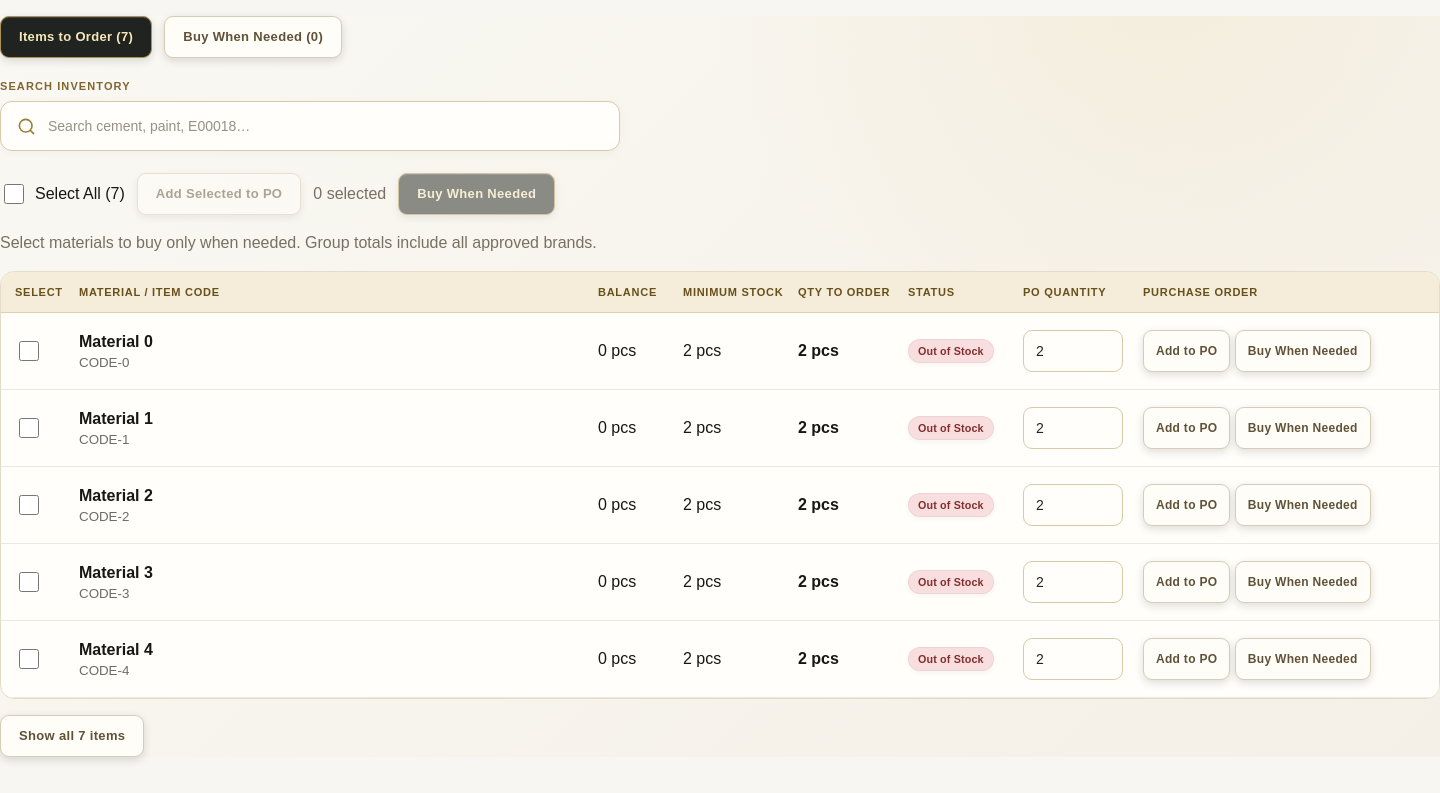
Test: hides a row in place while preserving Show All and search
In the search field: (326, 126) [48,102,603,150], type "Material"
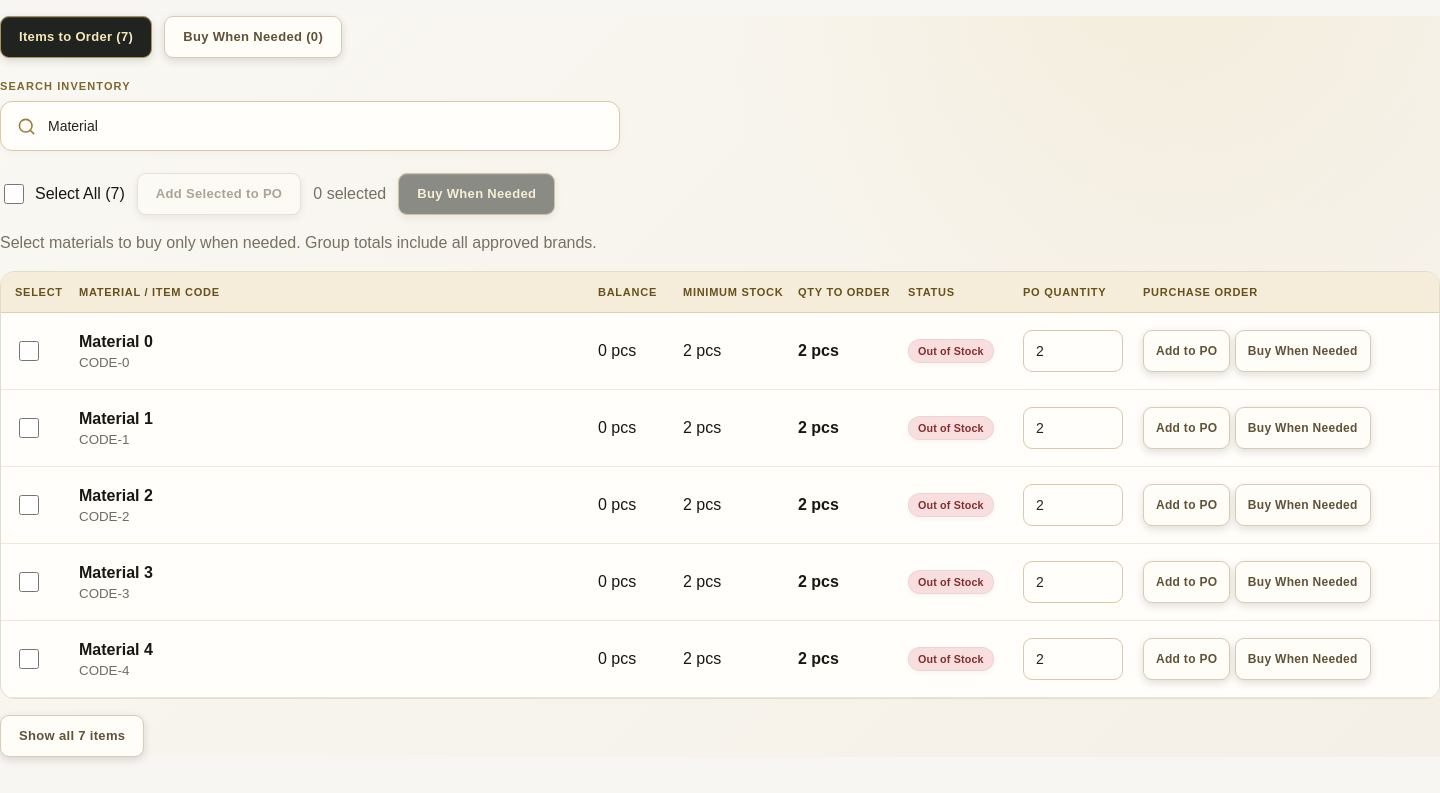
Click the button "Show all 7 items": (72, 736) [0,715,144,757]
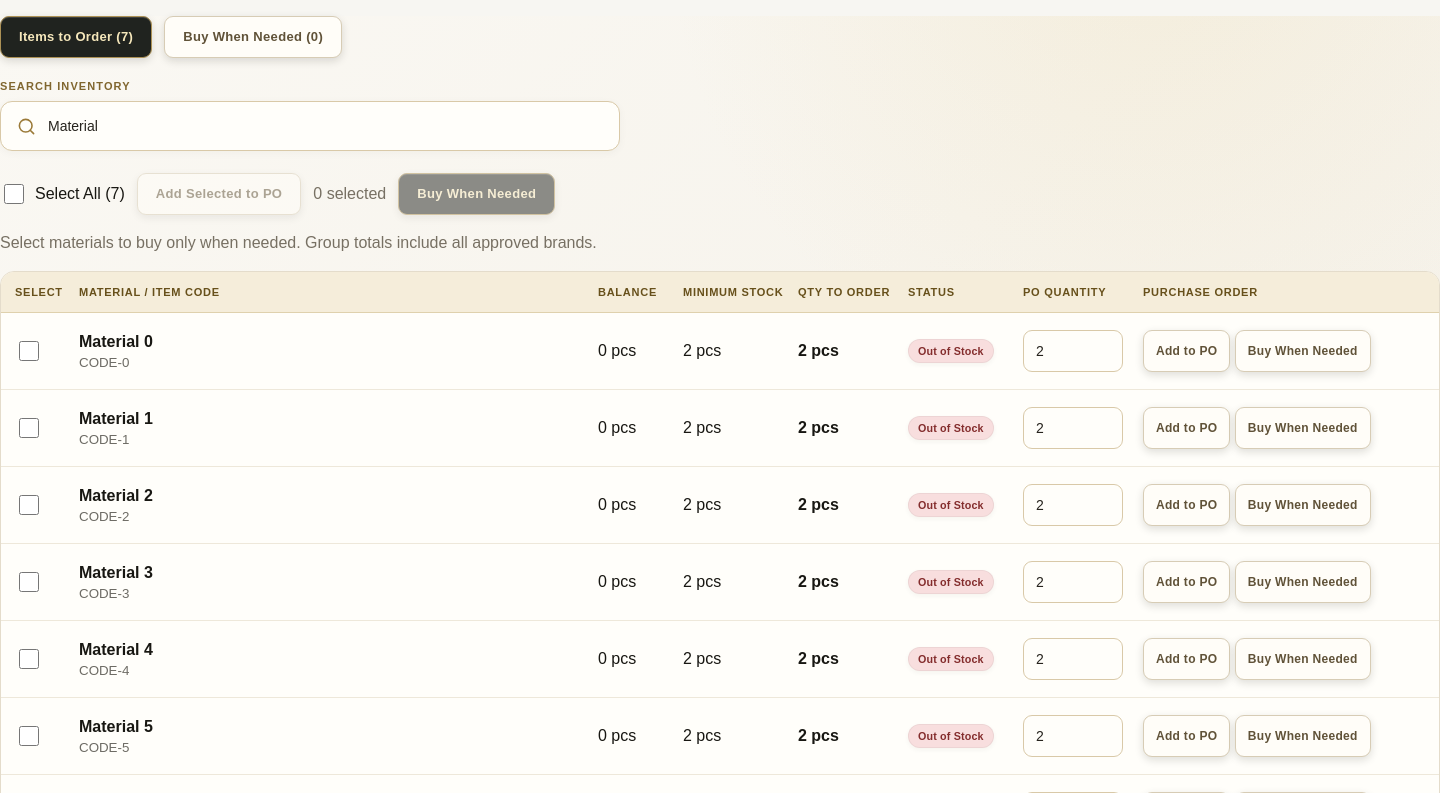
Click the button "Buy When Needed" in the row of "Material 0": (1303, 351) [1235,330,1371,372]
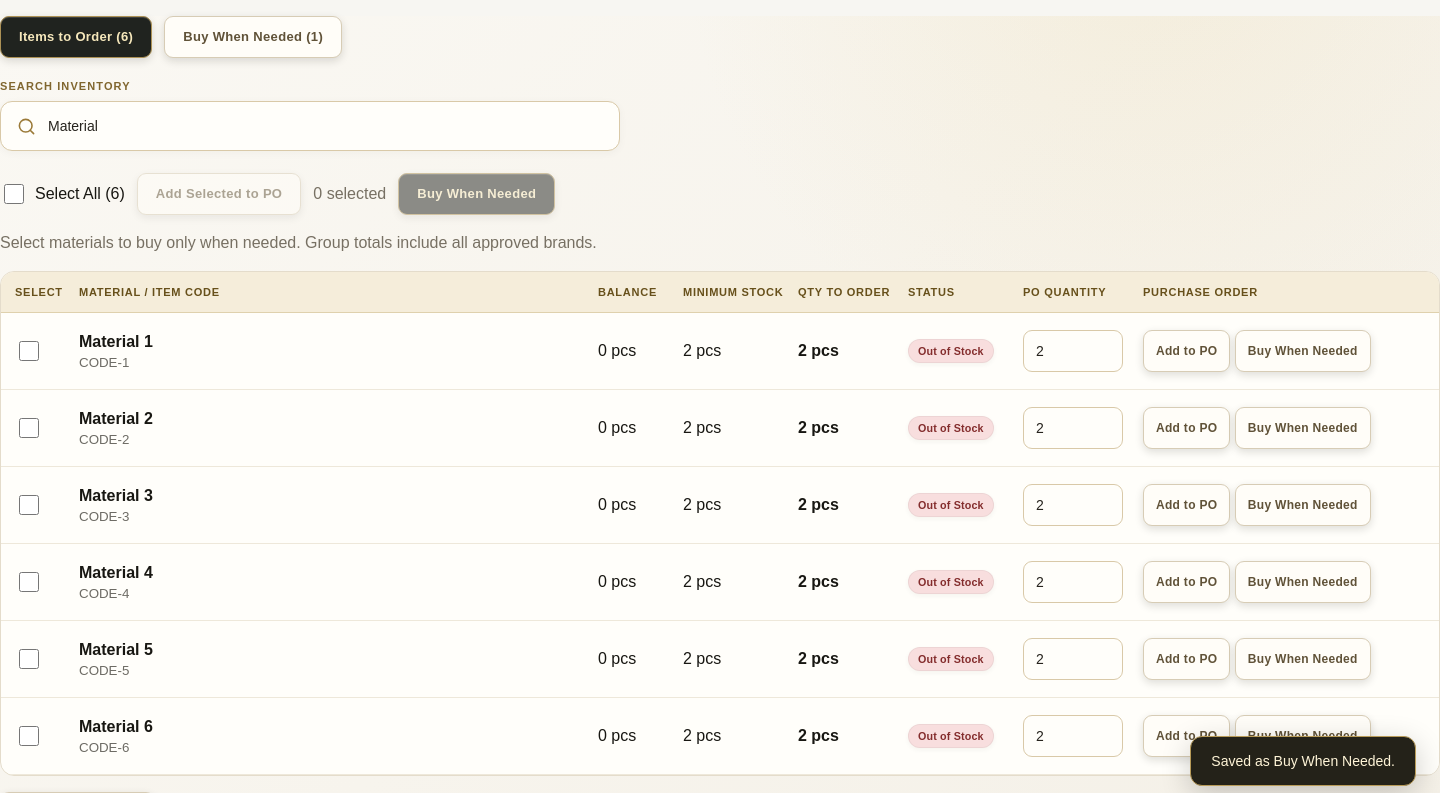
Now the text "Material 6" is shown, box [79,718,153,734]
Now the text "Material 0" is gone
